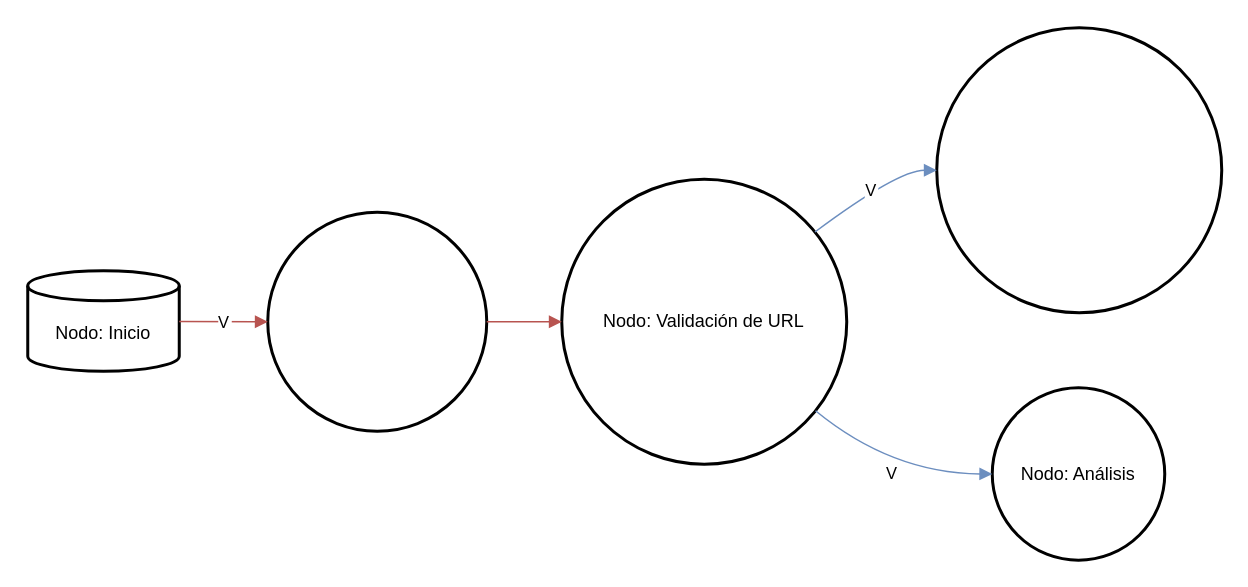
This 1248x587 diagram has some shape labels left out. Each missing label, with the centre of its shape:
Nodo: Ingreso URL: [377,321]
Nodo: Interfaz Streamlit: [1078,170]
